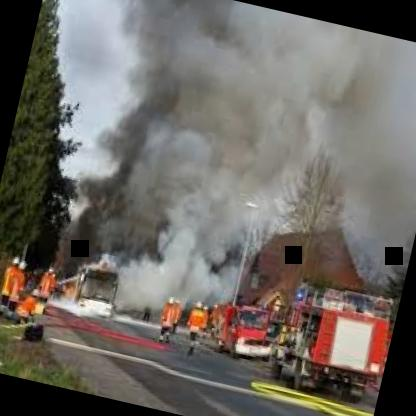fire: (125, 0, 341, 162), (98, 130, 292, 246), (62, 215, 223, 346)
